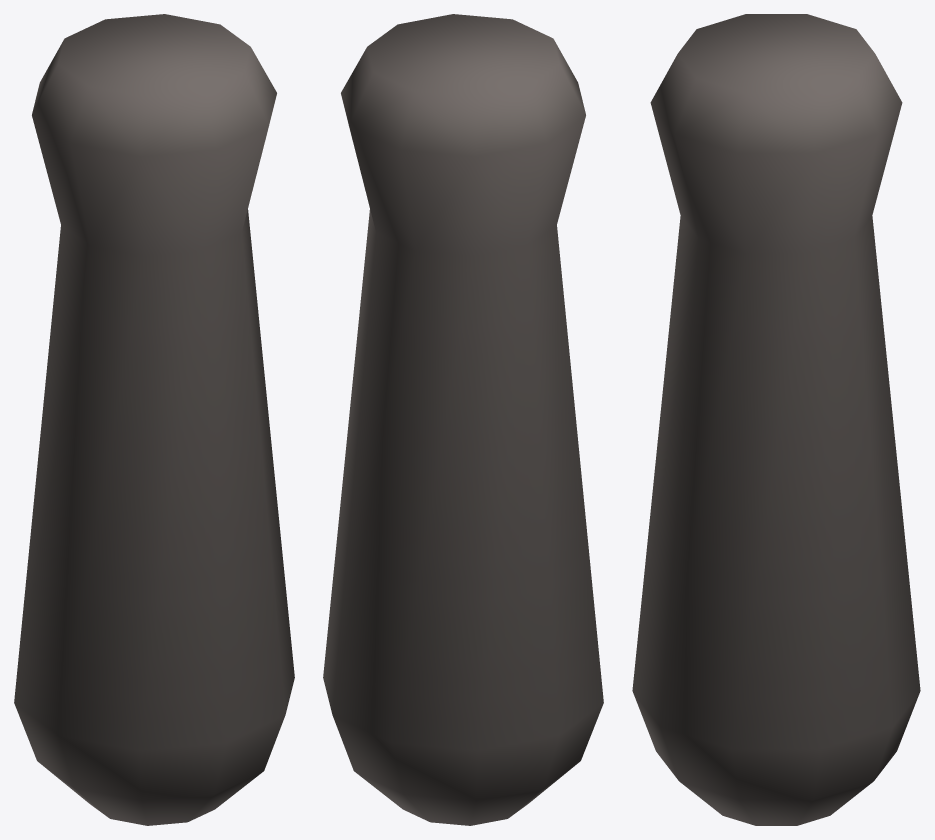
Rendered from Pestle.fbx.
3 views of the same model, side by side, from view 1: azimuth 30°, elevation 25°; view 2: azimuth 150°, elevation 25°; view 3: azimuth 270°, elevation 25° (orthographic).
Parts seen in each view (by area): view 1: Pestle; view 2: Pestle; view 3: Pestle.
Part boxes in pixels (x1,y1,x2,y2): Pestle: (14,14,294,825); Pestle: (323,14,603,825); Pestle: (632,14,920,825).
Size of the model in its own units: 3.71 by 11.12 by 3.9.
